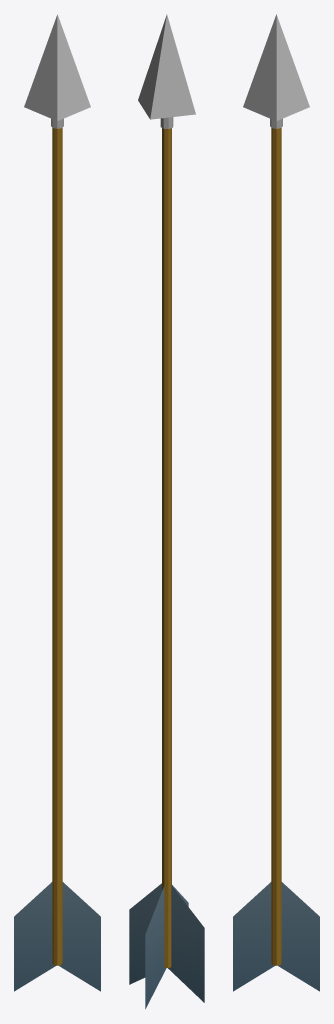
File: arrow_1.glb
The picture shows the model from 3 angles, left to right: view 1: azimuth 90°, elevation 25°; view 2: azimuth 150°, elevation 25°; view 3: azimuth 270°, elevation 25°; orthographic projection.
Visible parts, largest first — view 1: arrow_1; view 2: arrow_1; view 3: arrow_1.
Boxes of the visible parts, <box> form: arrow_1: <box>14,14,100,991</box>; arrow_1: <box>129,14,204,1009</box>; arrow_1: <box>233,14,319,991</box>.
Bounding box in the file's own units: 0.0482 × 0.5997 × 0.0482.
Materials: 1 (1 with a texture image).
